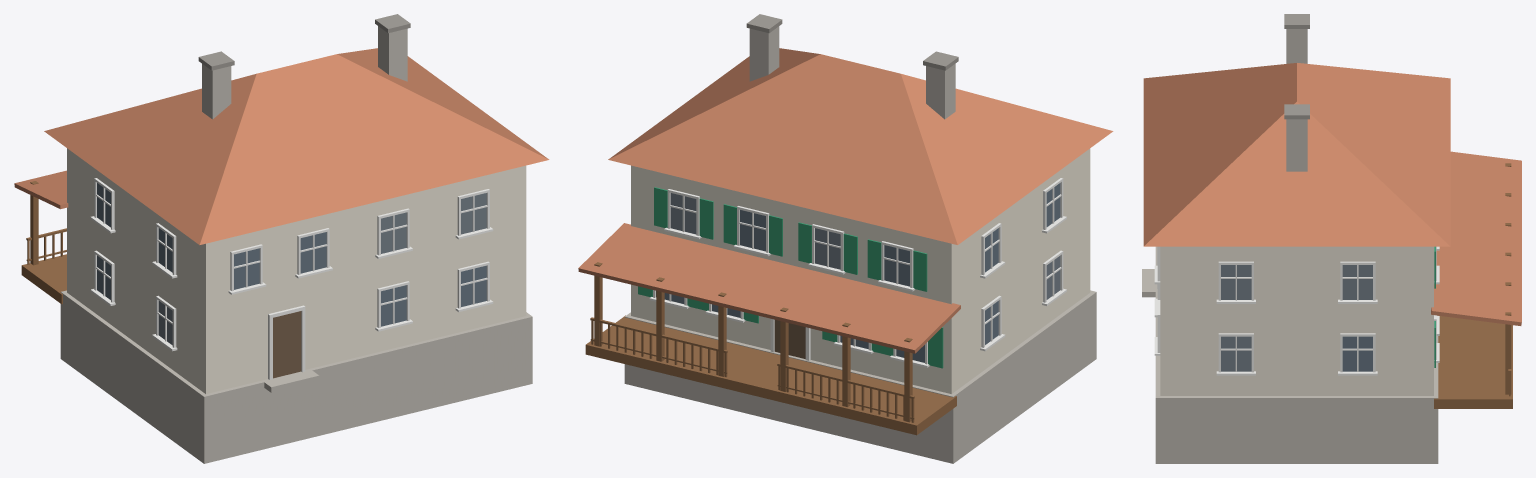
File: farmhouse.glb
The picture shows the model from 3 angles, left to right: view 1: azimuth 30°, elevation 25°; view 2: azimuth 150°, elevation 25°; view 3: azimuth 270°, elevation 25°; orthographic projection.
Visible parts, largest first — view 1: farmhouse; view 2: farmhouse; view 3: farmhouse.
Boxes of the visible parts, bbox=[...] form: farmhouse: bbox=[14, 14, 549, 463]; farmhouse: bbox=[578, 14, 1113, 463]; farmhouse: bbox=[1142, 14, 1521, 463].
Bounding box in the file's own units: 13.1 × 11.88 × 12.5.
